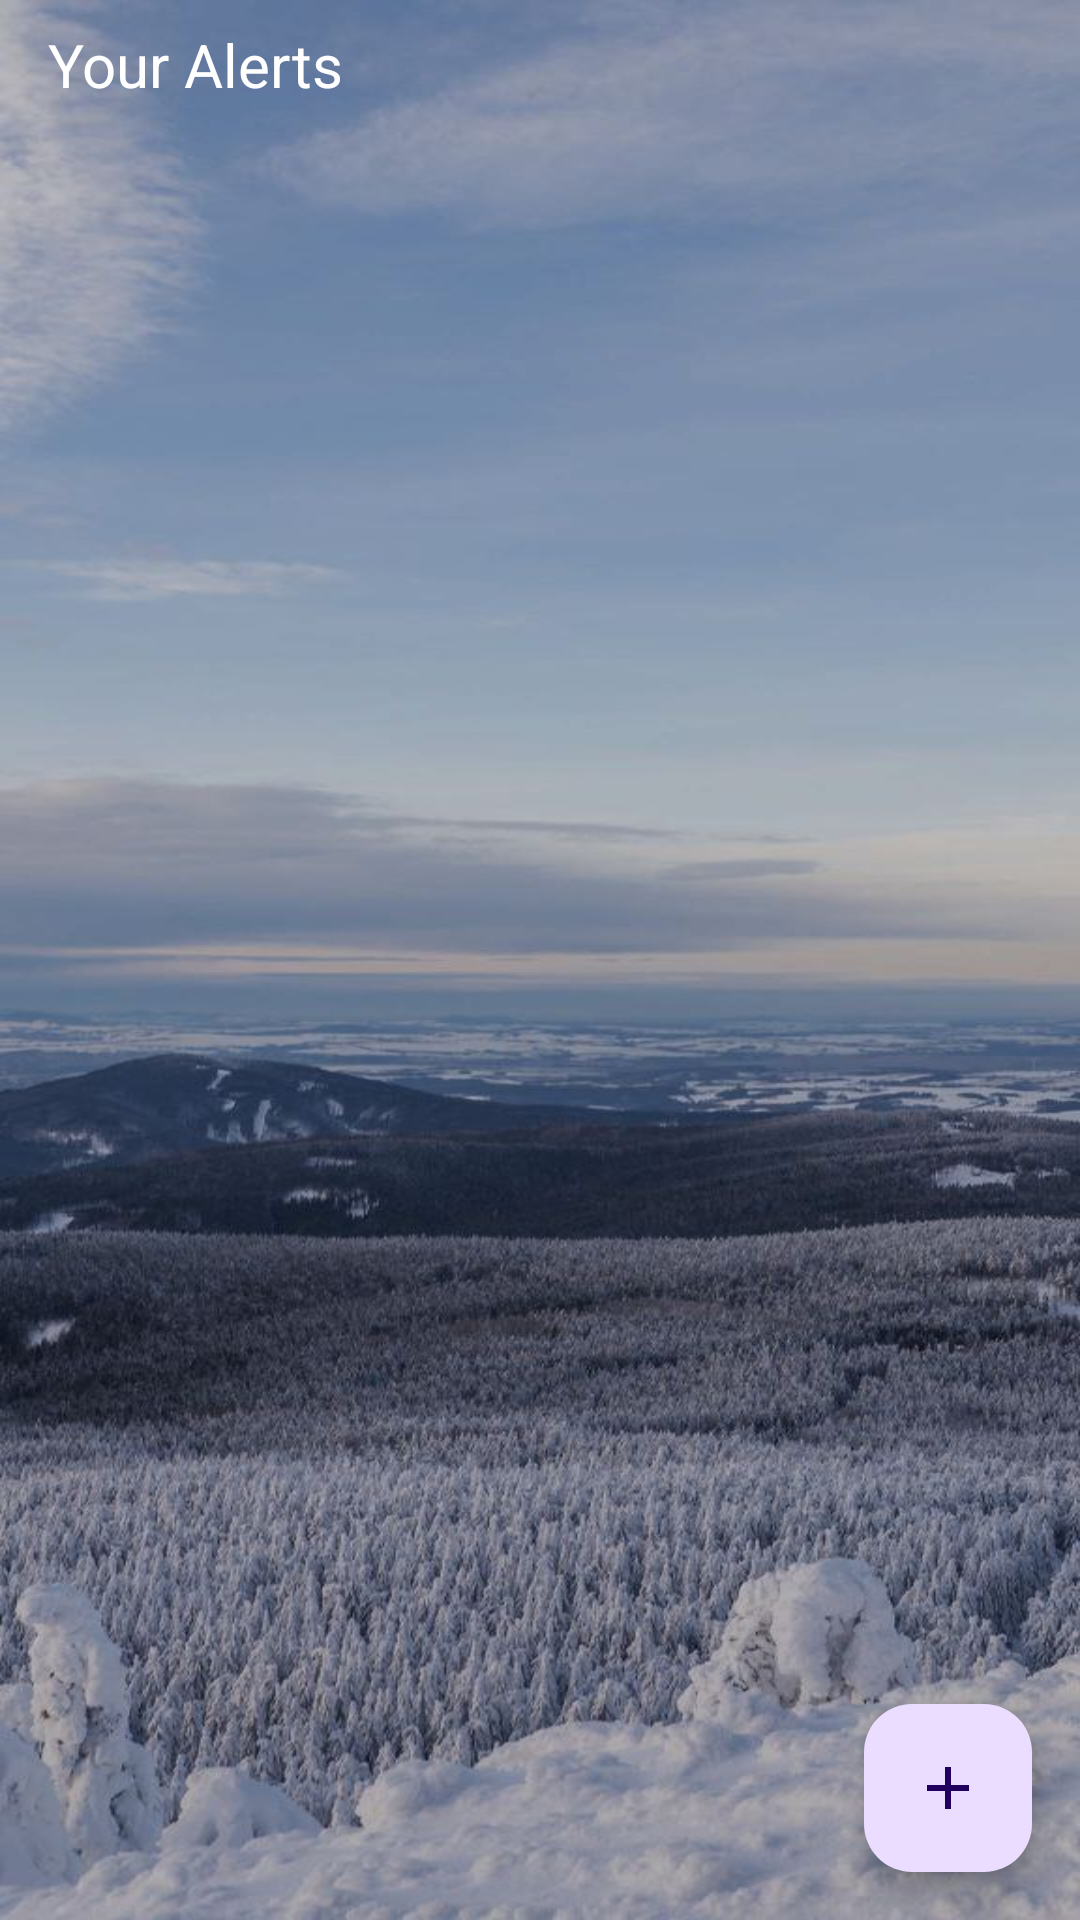

Named icons in this screenshot (1080×1920) and their bounding boxes, (x1, y1, x2, y2):
add alert: (864, 1704, 1032, 1872)
